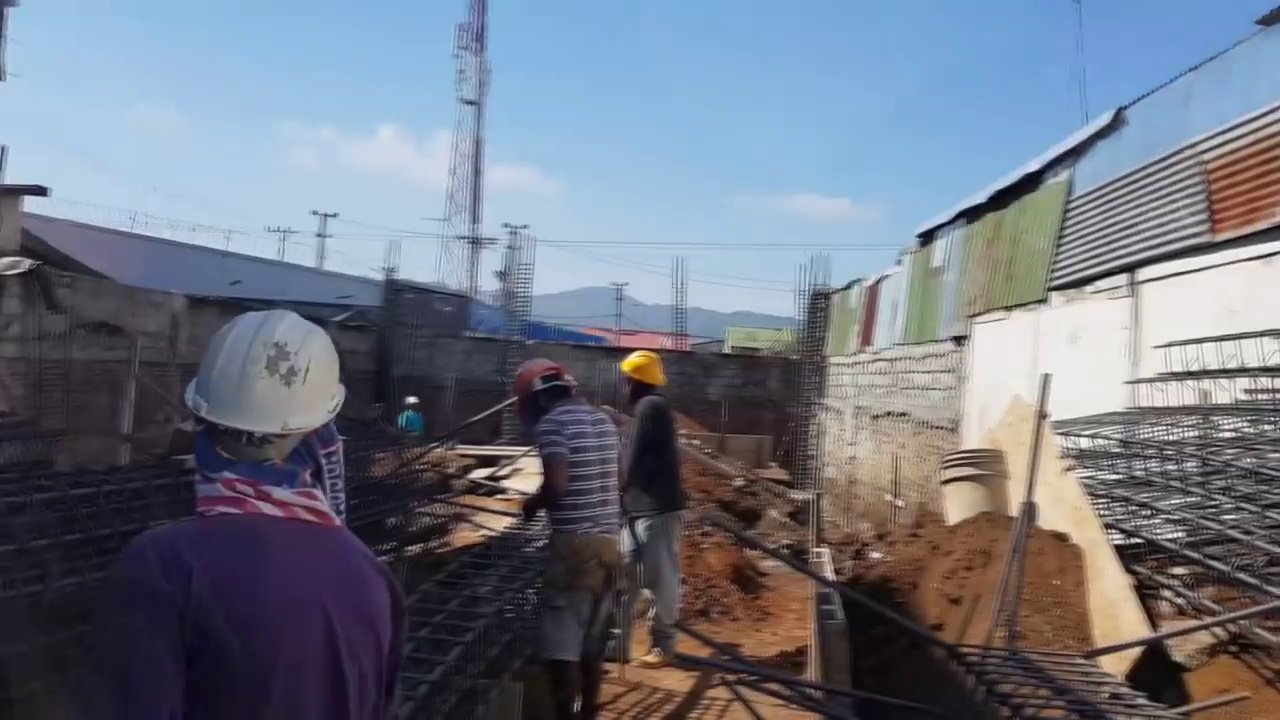helmet: (182, 311, 341, 443), (514, 357, 577, 396), (618, 349, 668, 388), (403, 396, 420, 405)
helmet-on: (176, 302, 350, 525), (515, 359, 579, 422), (617, 349, 667, 401), (403, 395, 421, 411)
person: (91, 306, 396, 719), (514, 356, 617, 719), (615, 350, 691, 674), (397, 395, 425, 442)
